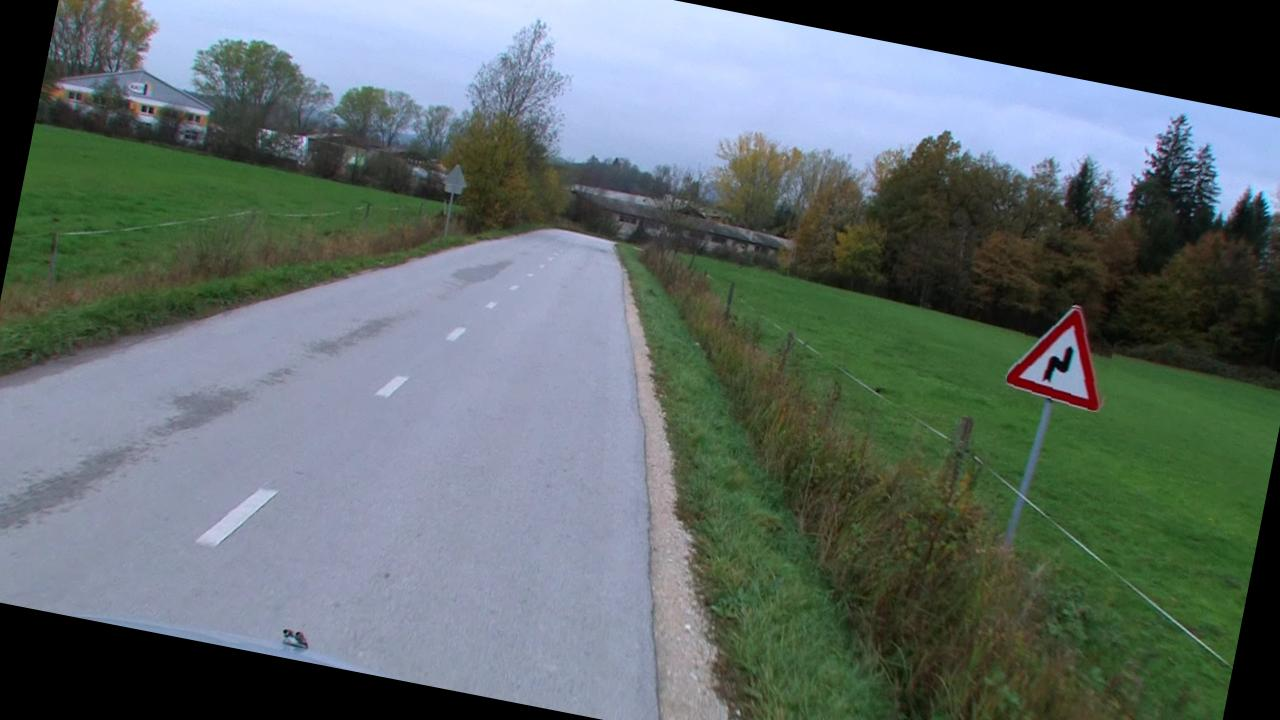Triangle: (1003, 294, 1121, 413)
